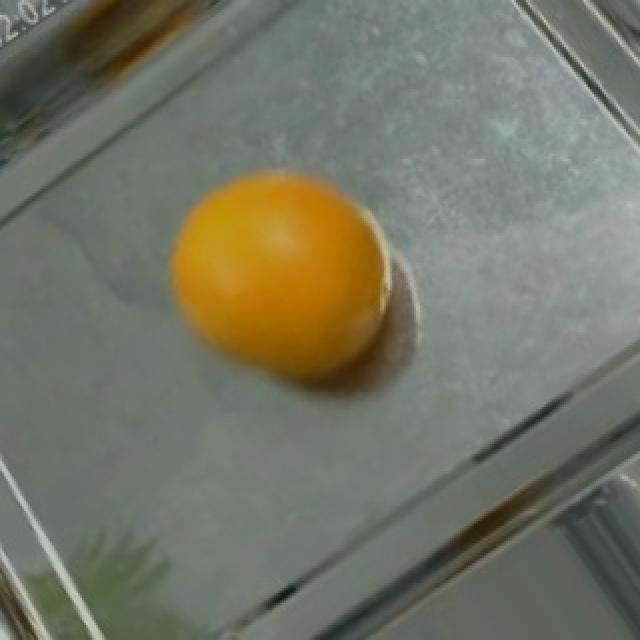Fruit: (148, 149, 412, 422)
